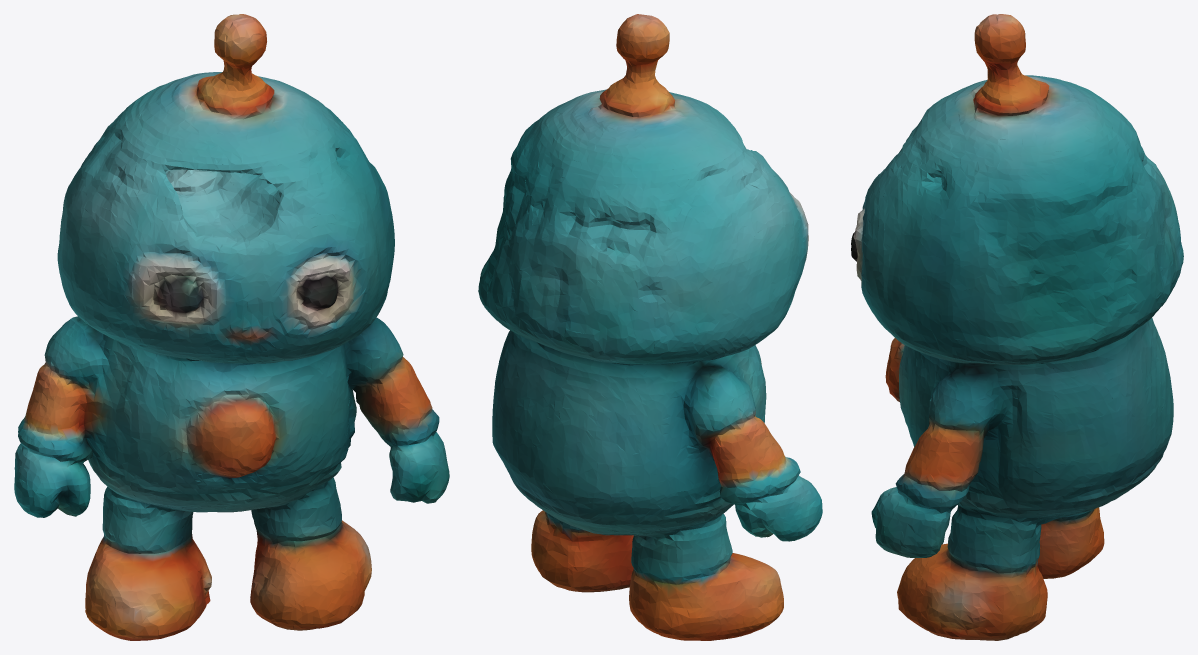
File: robot.obj
The picture shows the model from 3 angles, left to right: view 1: azimuth 30°, elevation 25°; view 2: azimuth 150°, elevation 25°; view 3: azimuth 270°, elevation 25°; orthographic projection.
Bounding box in the file's own units: 0.6383 × 1 × 0.5169.
